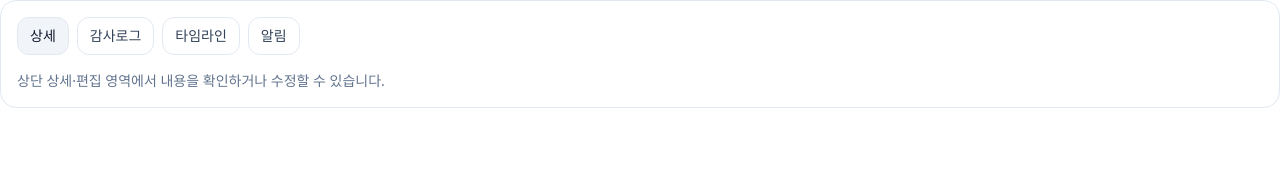
OpsQueueDetailTabs › 타임라인 탭 클릭 시 타임라인 데이터를 불러온다
The image size is (1280, 171).
Click the button "타임라인": (201, 36) [162,17,240,55]
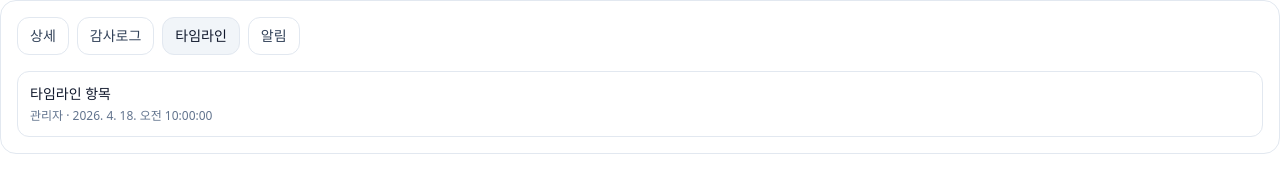
expect the text "타임라인 항목" is shown: met, box [30,84,111,103]
